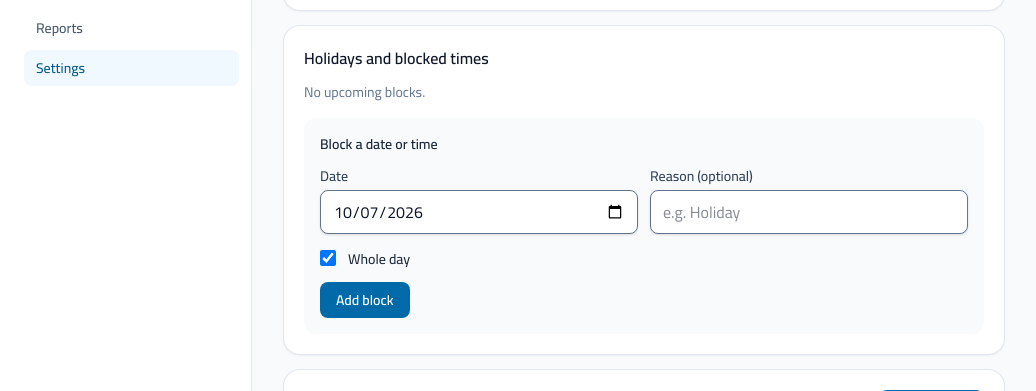
Test: Settings: blocked dates › shows validation errors under the fields
(page scrolled)
Check: the text "No upcoming blocks." is shown, box [304,79,425,105]
Step 1. Click the button "Add block" → (365, 300), box [320,282,410,318]
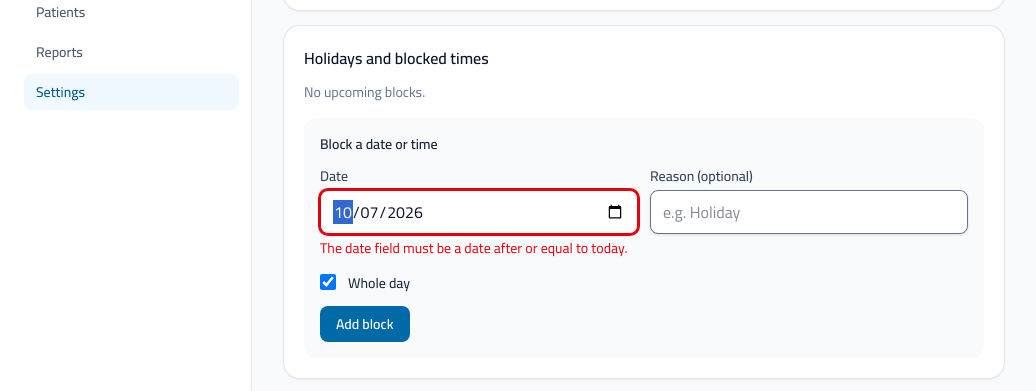
Check: the text "The date field must be a date after or equal to today." is shown, box [320,238,638,258]
